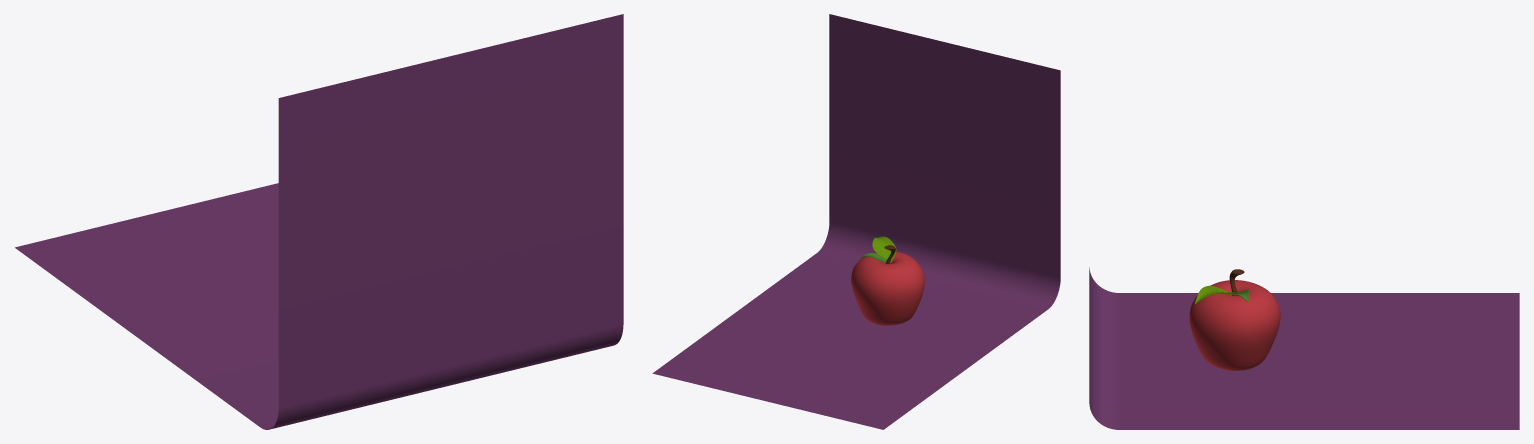
File: manzana.fbx
The picture shows the model from 3 angles, left to right: view 1: azimuth 30°, elevation 25°; view 2: azimuth 150°, elevation 25°; view 3: azimuth 270°, elevation 25°; orthographic projection. The views are drawn at different scales.
Visible parts, largest first — view 1: Plane.002; view 2: Plane.002, Cube; view 3: Plane.002, Cube.
Boxes of the visible parts, x1,y1,x2,y2 form: Plane.002: (15, 14, 623, 429); Plane.002: (652, 14, 1060, 429); Cube: (851, 251, 924, 325); Plane.002: (1089, 267, 1519, 429); Cube: (1189, 280, 1280, 370).
Bounding box in the file's own units: 2539 × 2437 × 3369.
